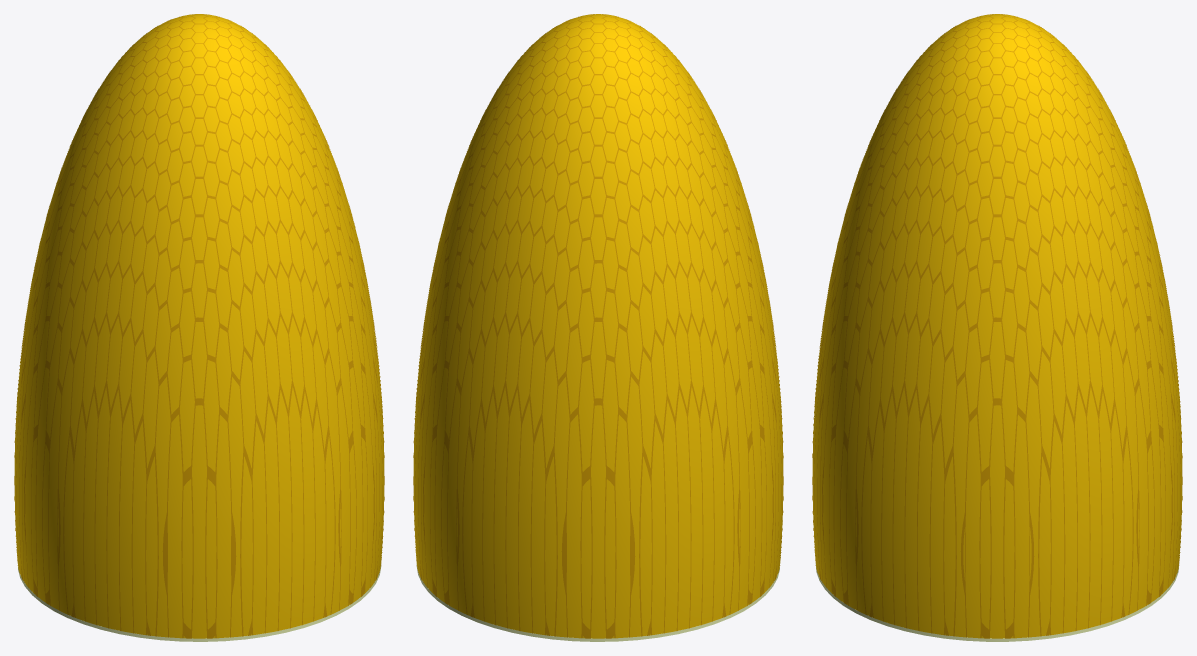
The model's file is COCOON-ON.fbx.
The picture shows the model from 3 angles, left to right: view 1: azimuth 30°, elevation 25°; view 2: azimuth 150°, elevation 25°; view 3: azimuth 270°, elevation 25°; orthographic projection.
Parts seen in each view (by area): view 1: 2rOOLpHAqmxP2E1e_original.003, 2rOOLpHAqmxP2E1e_original, 2rOOLpHAqmxP2E1e_original.002; view 2: 2rOOLpHAqmxP2E1e_original.003, 2rOOLpHAqmxP2E1e_original, 2rOOLpHAqmxP2E1e_original.002; view 3: 2rOOLpHAqmxP2E1e_original.003, 2rOOLpHAqmxP2E1e_original, 2rOOLpHAqmxP2E1e_original.002.
Part boxes in pixels (box(x1,y1,x2,y2)): 2rOOLpHAqmxP2E1e_original.003: box(14, 14, 384, 638); 2rOOLpHAqmxP2E1e_original: box(14, 14, 384, 638); 2rOOLpHAqmxP2E1e_original.002: box(18, 564, 381, 641); 2rOOLpHAqmxP2E1e_original.003: box(413, 14, 783, 638); 2rOOLpHAqmxP2E1e_original: box(413, 14, 783, 638); 2rOOLpHAqmxP2E1e_original.002: box(416, 564, 779, 641); 2rOOLpHAqmxP2E1e_original.003: box(812, 14, 1182, 638); 2rOOLpHAqmxP2E1e_original: box(812, 14, 1182, 638); 2rOOLpHAqmxP2E1e_original.002: box(815, 563, 1179, 641).
Size of the model in its own units: 6090 by 10000 by 6093.
